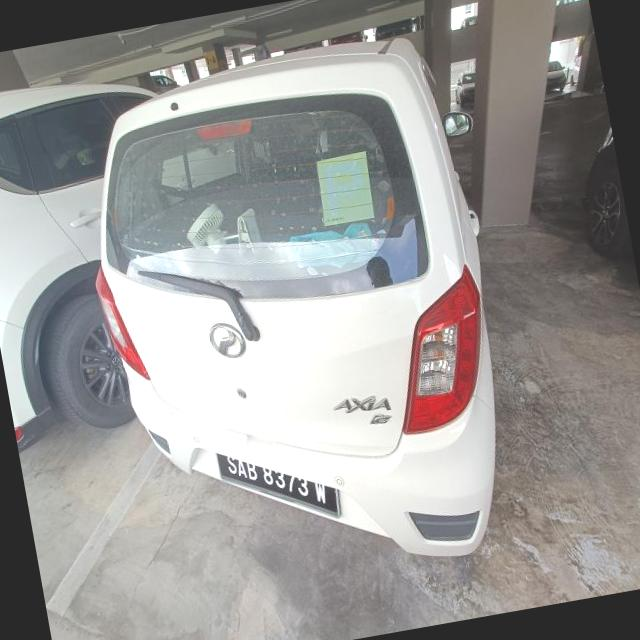PeroduaAxia: (59, 24, 536, 612)
